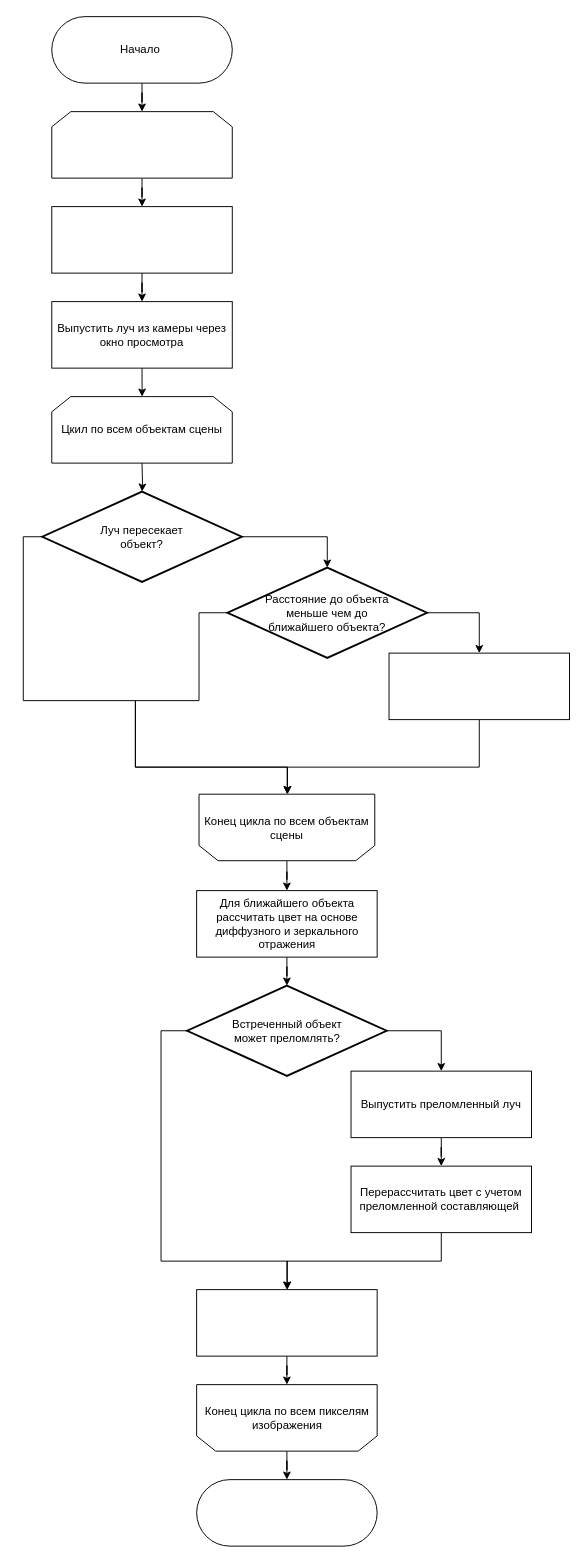
Some shapes in this 586 by 1563 pixel diagram are drawn without their labels. Here are the shapes that lost their labels. From the top down, the box of each, then its label:
(51, 111, 232, 178): Цикл по всем пикселям изображения
(51, 206, 232, 273): цвет=цвет фона ближайший_объект=null
(388, 652, 570, 720): ближайшим объектом становится текущий объект
(196, 1289, 377, 1356): Закрасить пиксель полученным цветом
(196, 1479, 377, 1546): Конец
